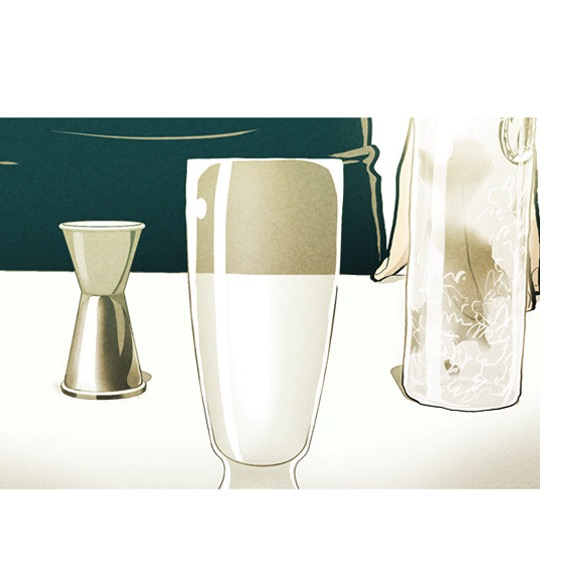cup: (176, 144, 349, 490)
